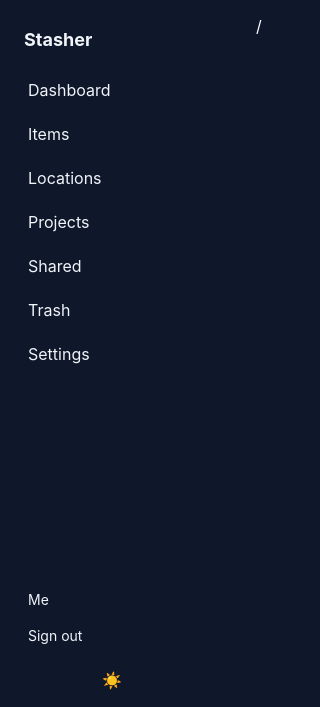
Test: AppShell logout › toasts and still navigates to /login when the logout request fails
The image size is (320, 707).
Click the button "Sign out" at (112, 636), box [16, 618, 208, 654]
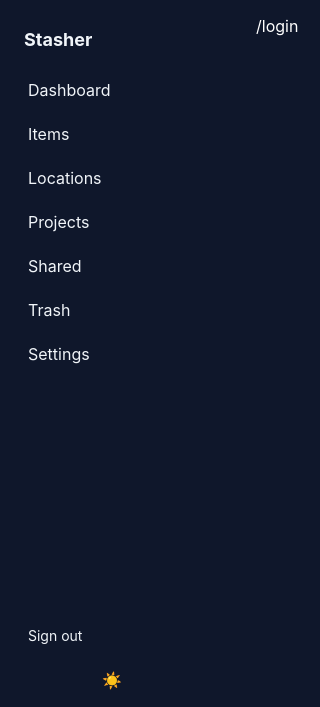
Result: the text "/login" is shown at [256, 16, 298, 36]
